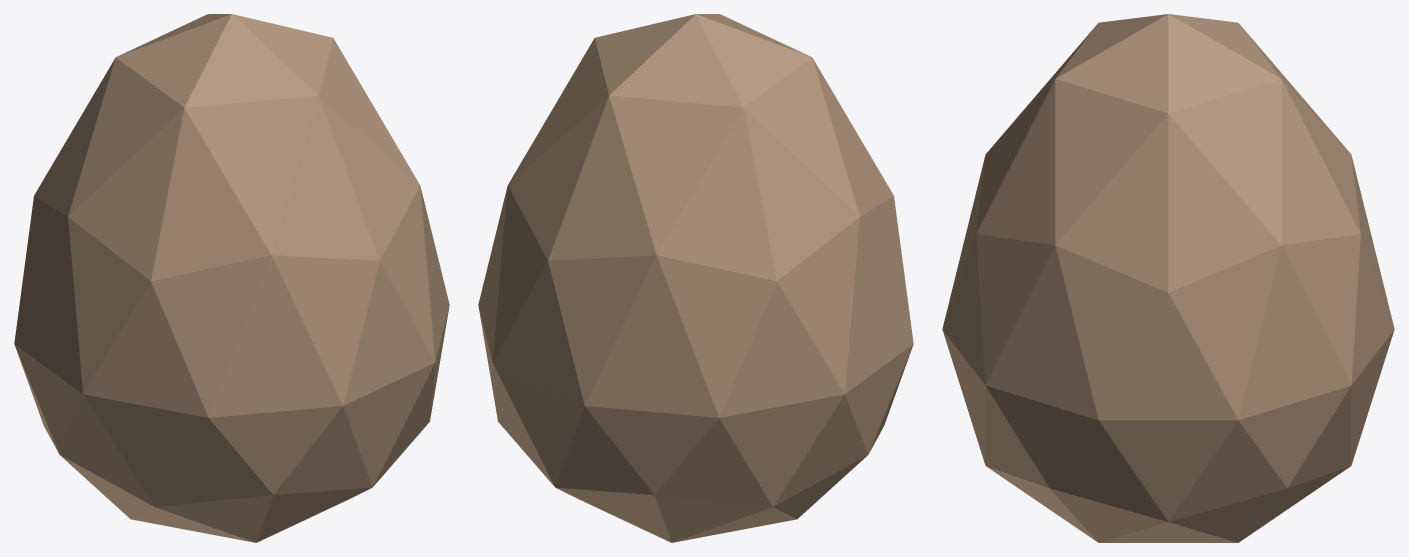
Rendered from egg.glb.
The picture shows the model from 3 angles, left to right: view 1: azimuth 30°, elevation 25°; view 2: azimuth 150°, elevation 25°; view 3: azimuth 270°, elevation 25°; orthographic projection.
Parts seen in each view (by area): view 1: Icosphere; view 2: Icosphere; view 3: Icosphere.
Boxes of the visible parts, x1,y1,x2,y2 form: Icosphere: (14, 14, 449, 542); Icosphere: (478, 14, 913, 542); Icosphere: (942, 14, 1394, 542).
Bounding box in the file's own units: 0.0659 × 0.0878 × 0.0693.
